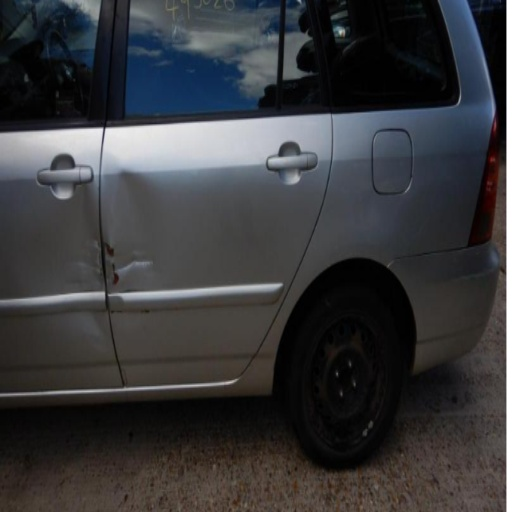dent: (104, 172, 156, 293), (68, 183, 107, 293), (78, 312, 110, 348)
rust: (112, 265, 120, 286), (104, 241, 114, 256), (112, 311, 122, 317), (141, 309, 151, 314)
scratch: (116, 259, 152, 272)
